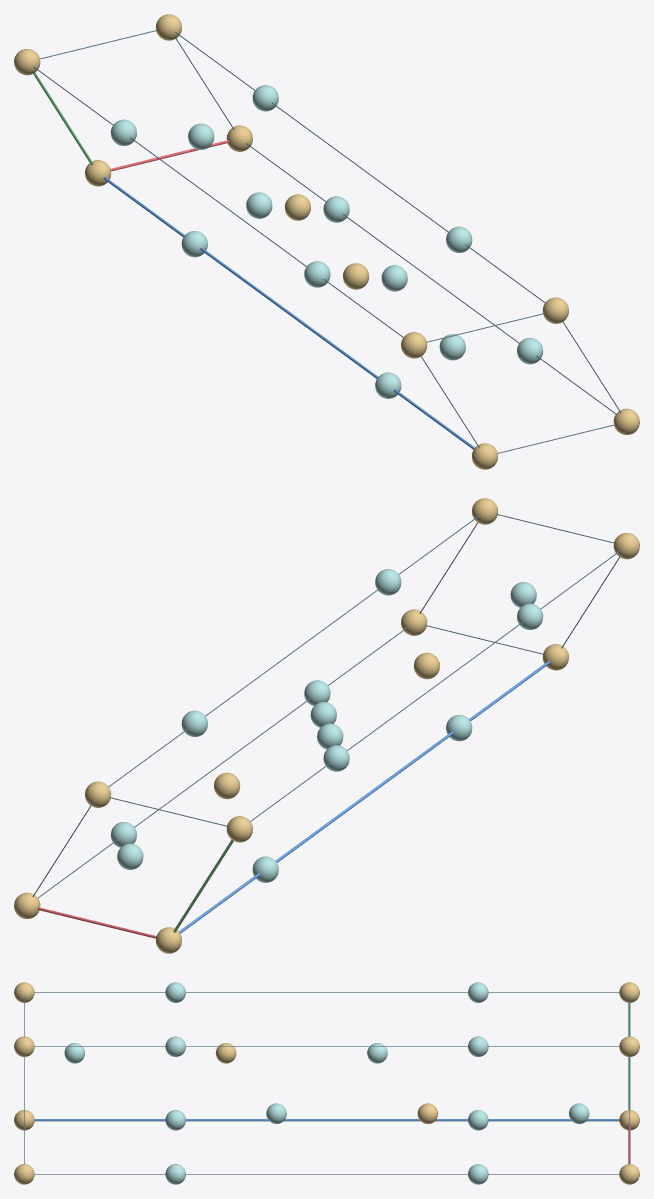
The model's file is chat-cadmium-bromide.glb.
3 renders of one model, top to bottom at view 1: azimuth 30°, elevation 25°; view 2: azimuth 150°, elevation 25°; view 3: azimuth 270°, elevation 25°, orthographic. The views are drawn at different scales.
Parts seen in each view (by area): view 1: Ô mạng và các trục a, b, c; view 2: Ô mạng và các trục a, b, c; view 3: Br · Br · 1 (×12), Ô mạng và các trục a, b, c, Cd · Cd · 1 (×10).
Boxes of the visible parts, left/top/right/bottom form: Ô mạng và các trục a, b, c: left=33, top=30, right=621, bottom=453; Ô mạng và các trục a, b, c: left=32, top=514, right=620, bottom=938; Br · Br · 1 (×12): left=64, top=982, right=589, bottom=1184; Ô mạng và các trục a, b, c: left=24, top=992, right=630, bottom=1174; Cd · Cd · 1 (×10): left=14, top=982, right=639, bottom=1184.
Size of the model in its own units: 6.56 by 4.06 by 19.31.
